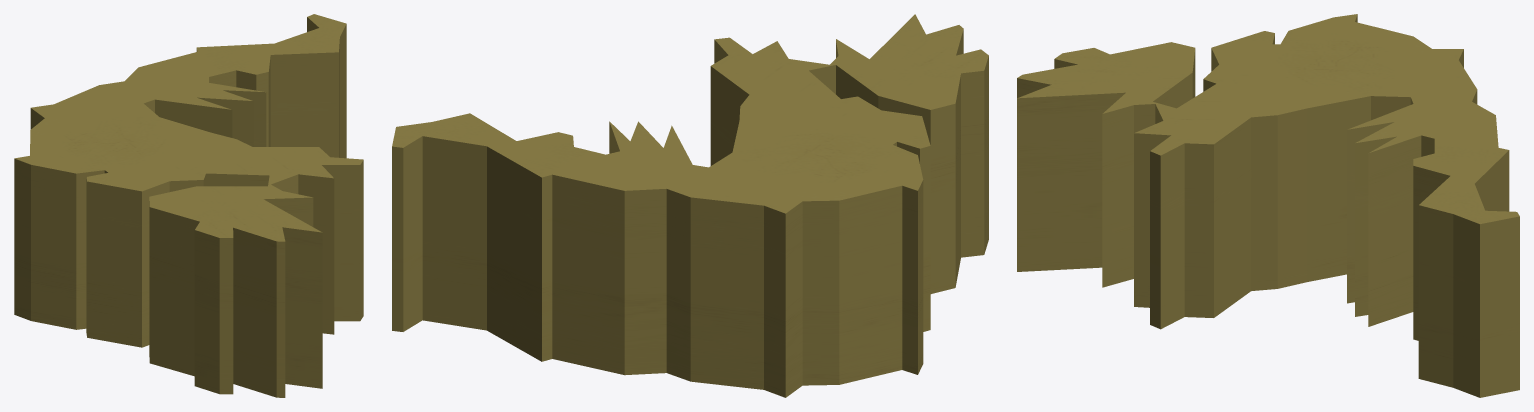
Rendered from greece.DAE.
3 renders of one model, left to right at view 1: azimuth 30°, elevation 25°; view 2: azimuth 150°, elevation 25°; view 3: azimuth 270°, elevation 25°, orthographic. The views are drawn at different scales.
Visible parts, largest first — view 1: Greece; view 2: Greece; view 3: Greece.
Boxes of the visible parts, box(x1,y1,x2,y2) form: Greece: box(14, 14, 363, 397); Greece: box(392, 14, 988, 397); Greece: box(1017, 14, 1519, 397).
Bounding box in the file's own units: 64.87 × 65.56 × 25.
1 material, 1 textured.
